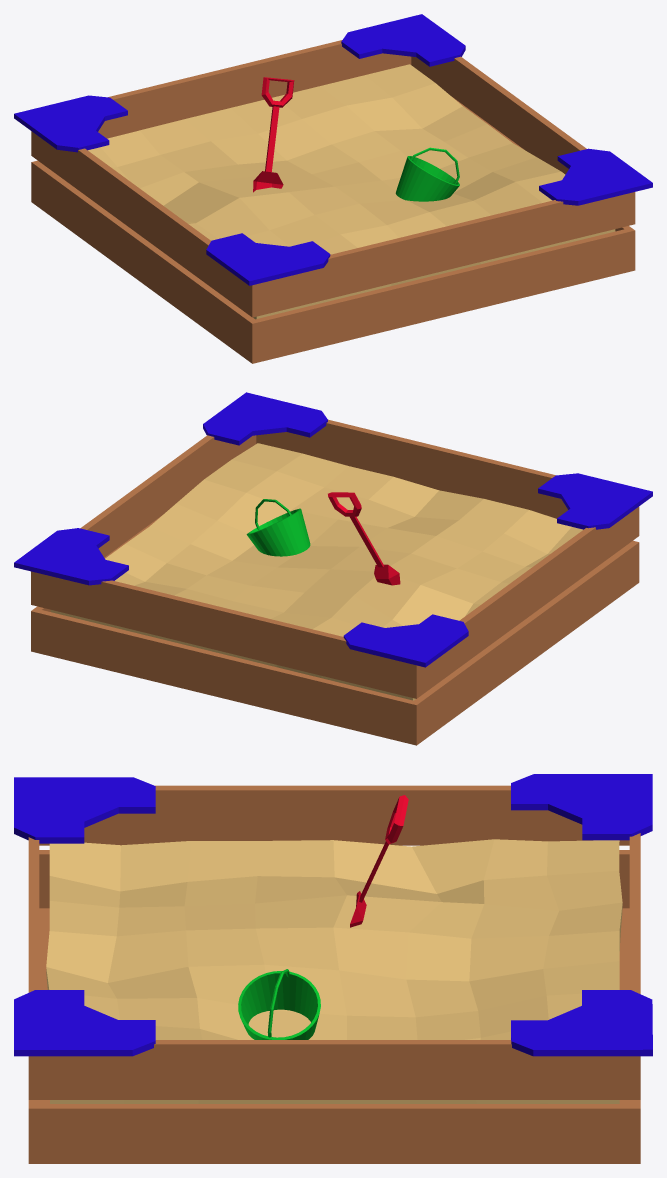
The model's file is sandpit.fbx.
3 views of the same model, one above another, from view 1: azimuth 30°, elevation 25°; view 2: azimuth 150°, elevation 25°; view 3: azimuth 270°, elevation 25° (orthographic). The views are drawn at different scales.
Parts seen in each view (by area): view 1: Cube.002, Cube.001, Cube, Plane, Plane.003, Plane.001, Plane.002, Cylinder, Torus.001; view 2: Cube.002, Cube.001, Cube, Plane.003, Plane, Plane.001, Plane.002, Cylinder, Torus.001; view 3: Cube.002, Cube.001, Cube, Plane.002, Plane.001, Plane, Plane.003, Cylinder, Torus.001.
Part boxes in pixels (x1,y1,x2,y2): Cube.002: [88, 64, 615, 319]; Cube.001: [31, 40, 635, 317]; Cube: [31, 97, 635, 363]; Plane: [206, 233, 330, 285]; Plane.003: [14, 95, 127, 152]; Plane.001: [539, 148, 652, 205]; Plane.002: [341, 14, 465, 66]; Cylinder: [395, 147, 459, 201]; Torus.001: [253, 77, 294, 192]; Cube.002: [50, 443, 583, 700]; Cube.001: [31, 419, 639, 698]; Cube: [31, 515, 639, 745]; Plane.003: [343, 614, 468, 667]; Plane: [538, 473, 652, 529]; Plane.001: [203, 392, 327, 445]; Plane.002: [14, 528, 128, 585]; Cylinder: [246, 499, 310, 556]; Torus.001: [328, 492, 400, 585]; Cube.002: [46, 839, 622, 1103]; Cube.001: [28, 785, 640, 1099]; Cube: [28, 850, 640, 1163]; Plane.002: [511, 990, 652, 1056]; Plane.001: [14, 990, 155, 1056]; Plane: [14, 777, 155, 843]; Plane.003: [511, 774, 652, 840]; Cylinder: [238, 969, 320, 1039]; Torus.001: [350, 795, 408, 927].
Bounding box in the file's own units: 213 × 75.62 × 209.
